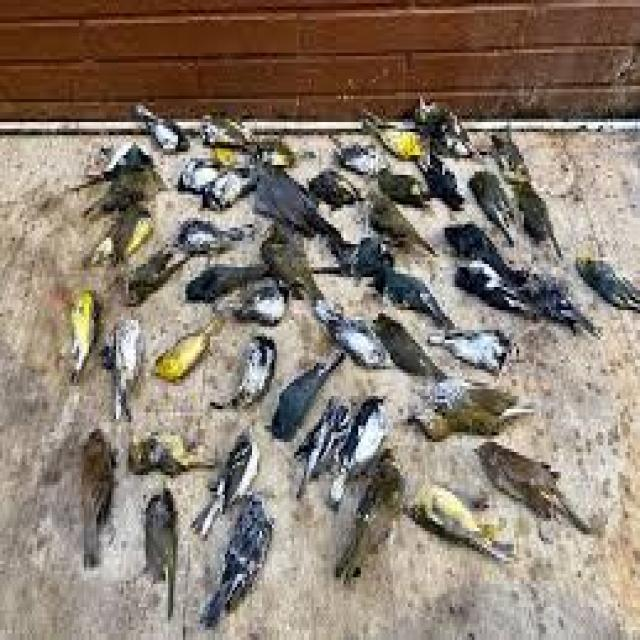Bangkai Burung: (64, 84, 616, 634)
